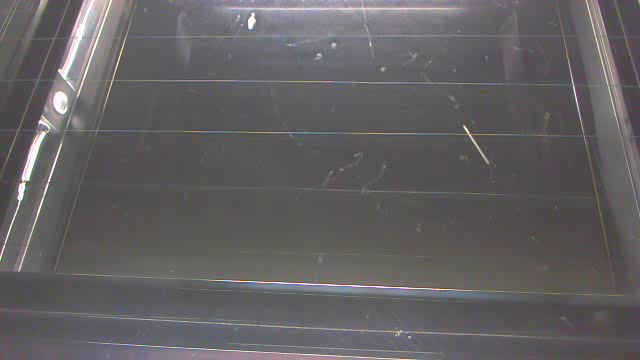alpha: (454, 122, 499, 167), (241, 9, 267, 35)
